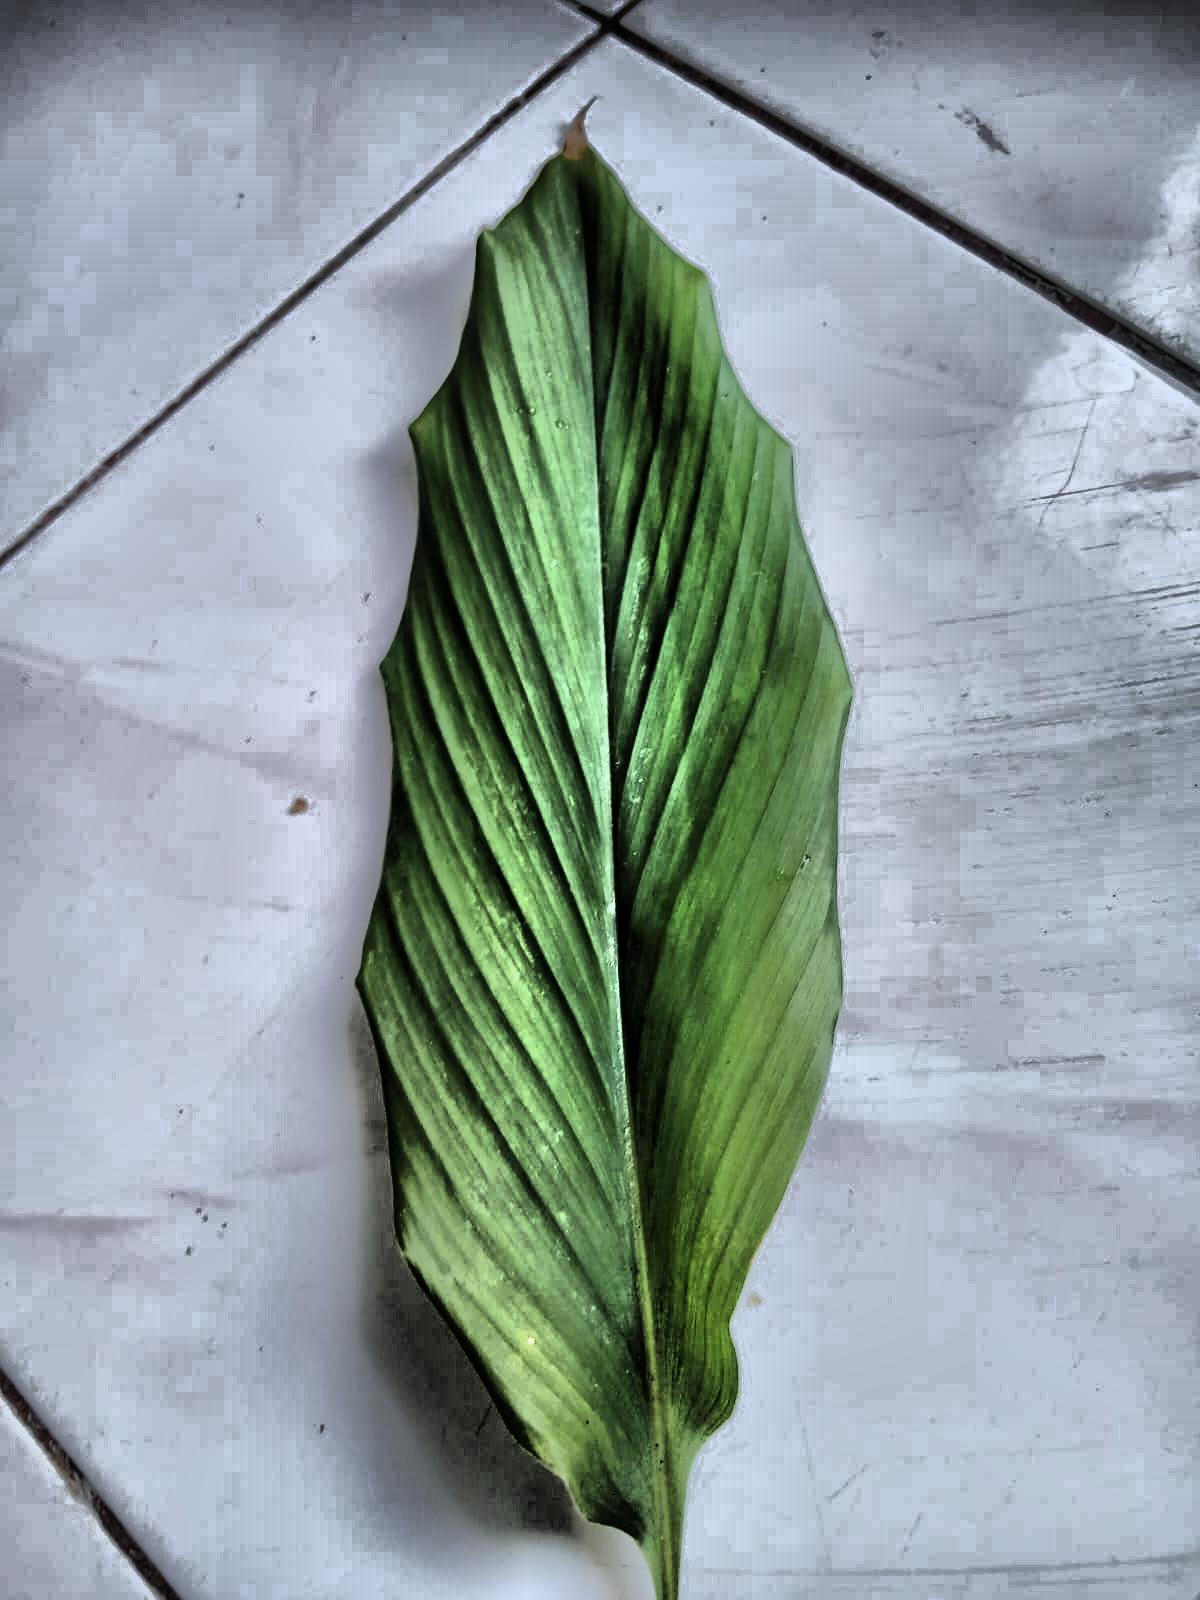daun kunyit: (358, 144, 851, 1599)
